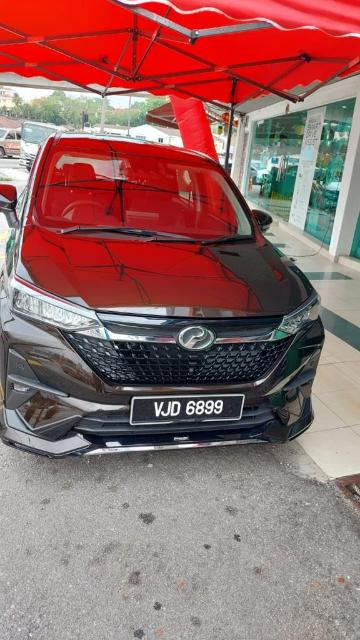License_Plate: (140, 396, 235, 425)
car: (6, 119, 331, 465)
